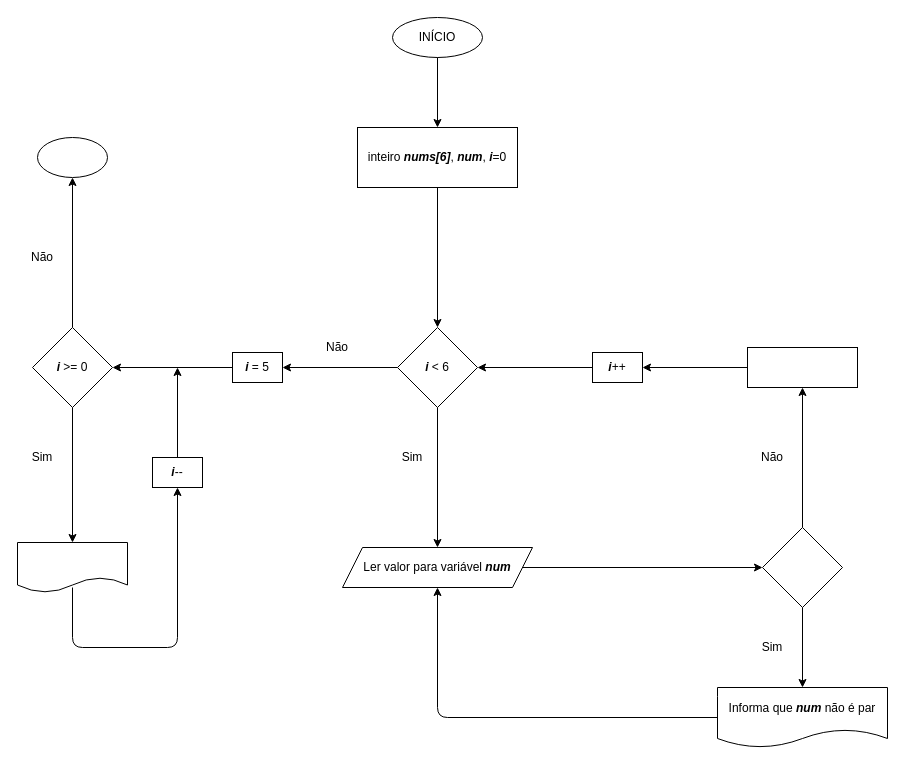
This 905x765 diagram has some shape labels left out. The shapes that lost their labels are listed below. From the top down, each one's box as (x1, y1, x2, y2) in pixels, then its label:
(36, 136, 108, 178): FIM
(746, 346, 858, 388): nums[i] = num
(16, 542, 128, 592): Mostra nums[i]
(762, 526, 842, 608): num %2 != 0
